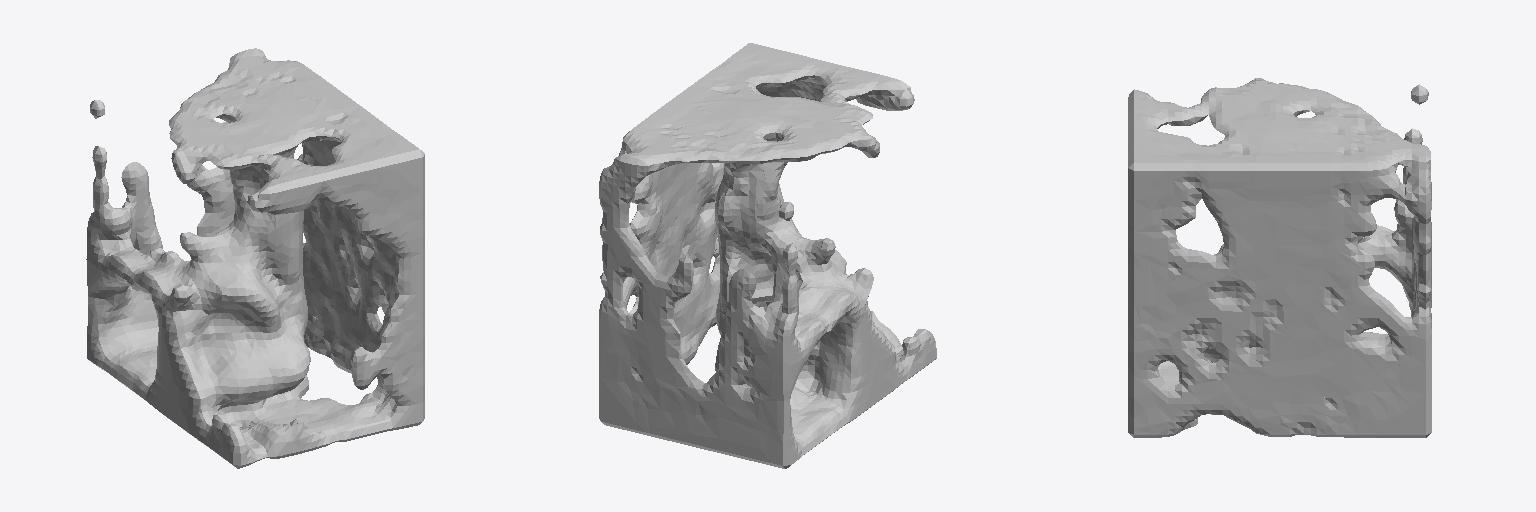
The picture shows the model from 3 angles: view 1: azimuth 30°, elevation 25°; view 2: azimuth 150°, elevation 25°; view 3: azimuth 270°, elevation 25°; orthographic projection.
Parts seen in each view (by area): view 1: Liquid_Domain; view 2: Liquid_Domain; view 3: Liquid_Domain.
Boxes of the visible parts, x1=… form: Liquid_Domain: x1=86, y1=48, x2=424, y2=468; Liquid_Domain: x1=599, y1=43, x2=936, y2=468; Liquid_Domain: x1=1128, y1=78, x2=1431, y2=437.
Size of the model in its own units: 79.16 by 108 by 108.